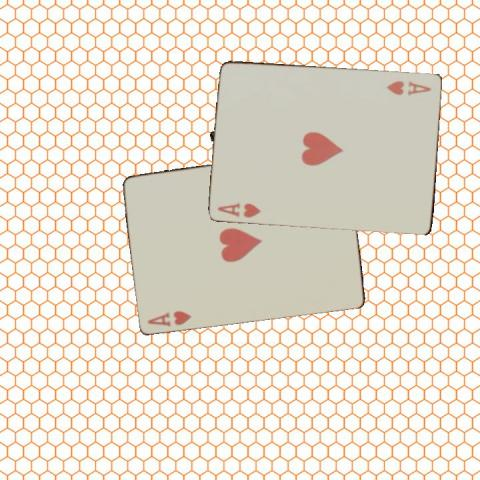Ah: (384, 77, 433, 97), (144, 308, 192, 328), (215, 199, 262, 219)
